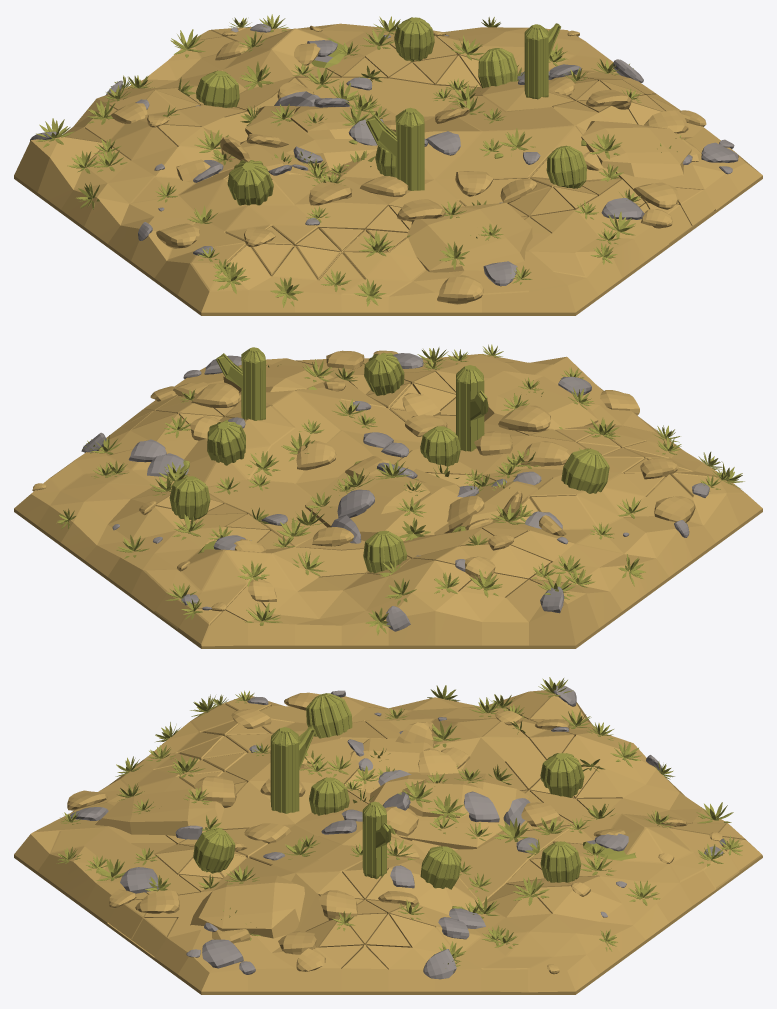
The model's file is subtropicalDesert.glb.
3 renders of one model, top to bottom at view 1: azimuth 30°, elevation 25°; view 2: azimuth 150°, elevation 25°; view 3: azimuth 270°, elevation 25°, orthographic.
Parts seen in each view (by area): view 1: desert; view 2: desert; view 3: desert.
Boxes of the visible parts, x1,y1,x2,y2 form: desert: [14, 14, 762, 315]; desert: [14, 344, 762, 648]; desert: [14, 677, 762, 994].
Bounding box in the file's own units: 1.74 × 0.3631 × 2.
